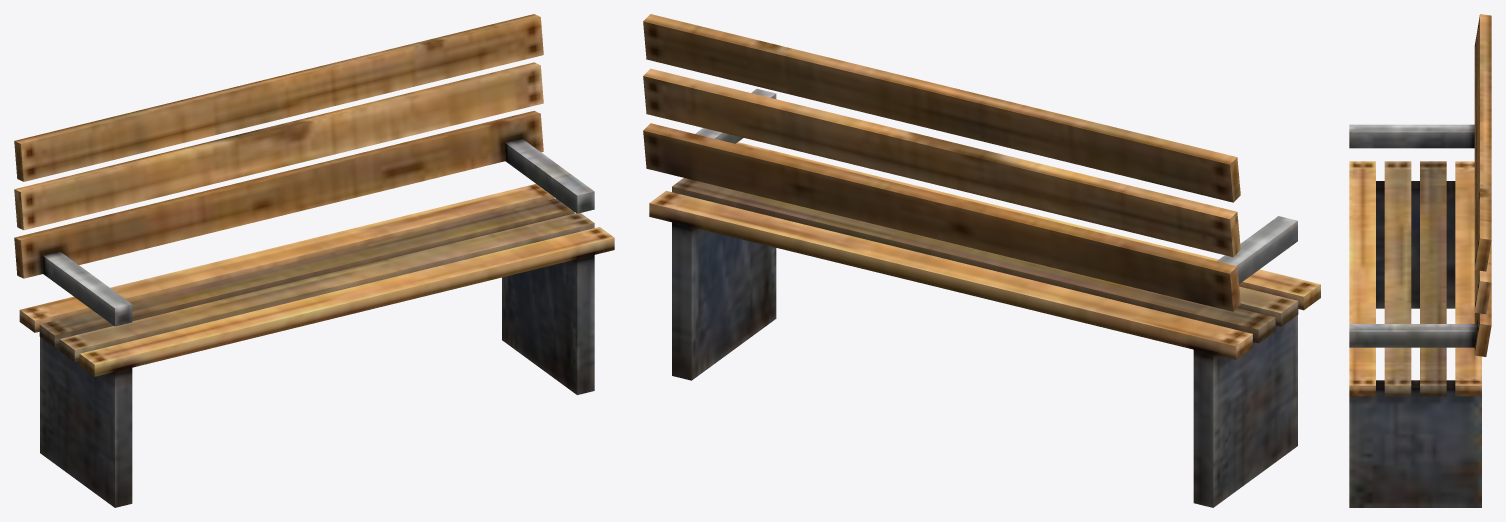
The model's file is bench.glb.
3 renders of one model, left to right at view 1: azimuth 30°, elevation 25°; view 2: azimuth 150°, elevation 25°; view 3: azimuth 270°, elevation 25°, orthographic. The views are drawn at different scales.
Parts seen in each view (by area): view 1: bench; view 2: bench; view 3: bench.
Part boxes in pixels (x1,y1,x2,y2): bench: [14, 14, 614, 507]; bench: [643, 14, 1320, 507]; bench: [1349, 14, 1491, 507].
Size of the model in its own units: 1.8 by 1.04 by 0.4827.
Materials: 2 (2 with a texture image).
